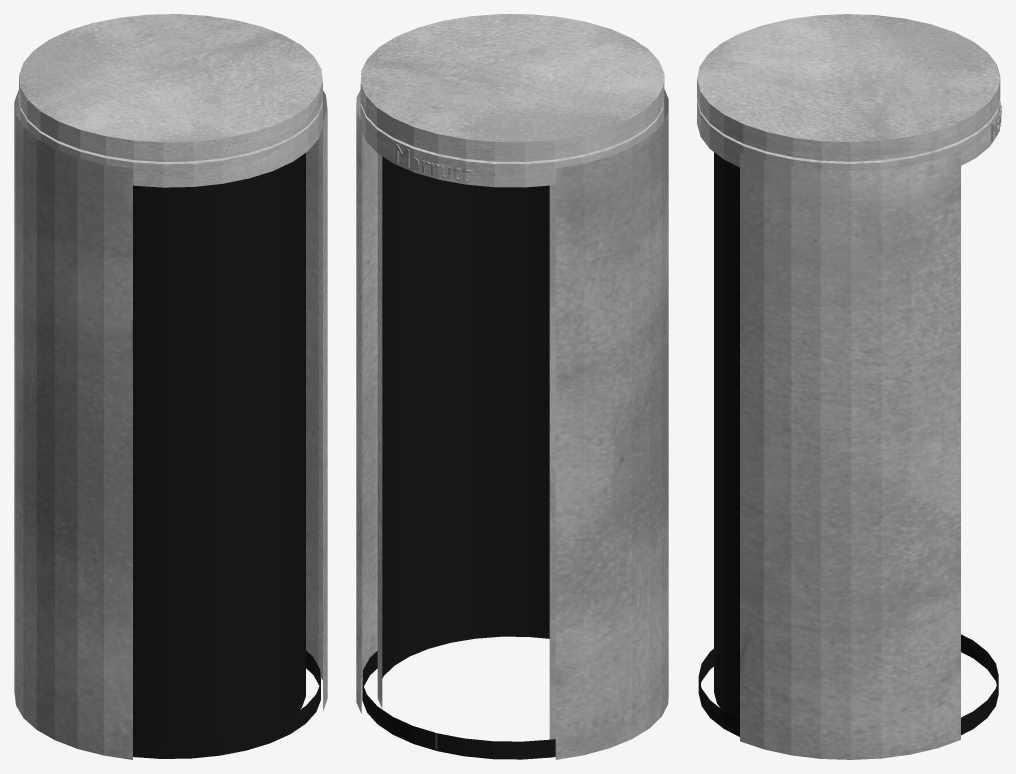
The model's file is door.fbx.
3 views of the same model, side by side, from view 1: azimuth 30°, elevation 25°; view 2: azimuth 150°, elevation 25°; view 3: azimuth 270°, elevation 25° (orthographic).
Visible parts, largest first — view 1: Cylinder.002; view 2: Cylinder.002; view 3: Cylinder.002.
Part boxes in pixels (left/top/right/bottom): Cylinder.002: left=14, top=14, right=327, bottom=759; Cylinder.002: left=356, top=14, right=668, bottom=759; Cylinder.002: left=697, top=14, right=1001, bottom=759.
Bounding box in the file's own units: 2.74 × 5.96 × 2.67.
1 material, 1 textured.
